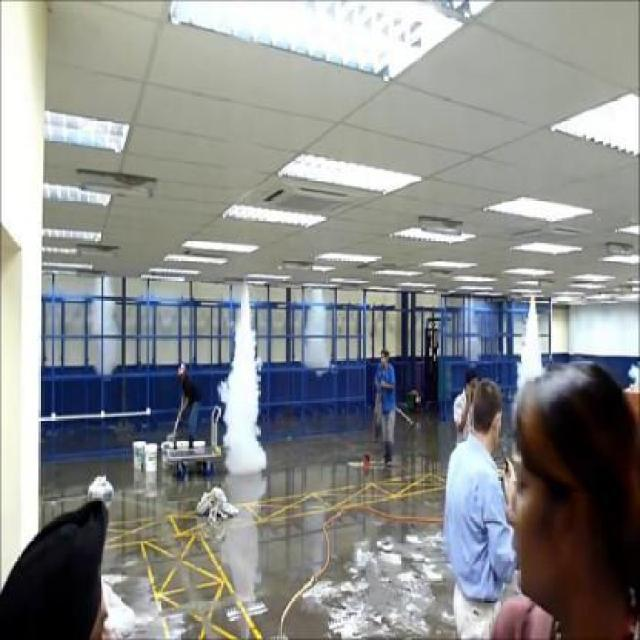fire: (221, 297, 270, 485), (519, 312, 544, 383)
